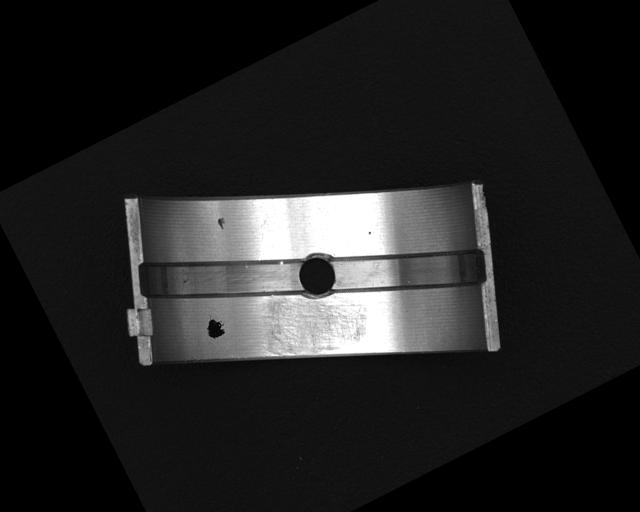blot: (202, 315, 228, 341)
bruise: (213, 214, 229, 232), (366, 229, 372, 236)
gap: (128, 199, 313, 359), (322, 195, 499, 345)
hole: (284, 243, 348, 307)
nick: (242, 220, 279, 261)
scratch: (246, 264, 380, 382)
